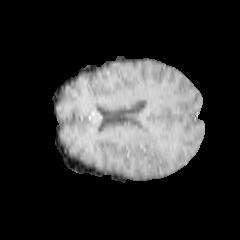glioma: (129, 126, 163, 157)
